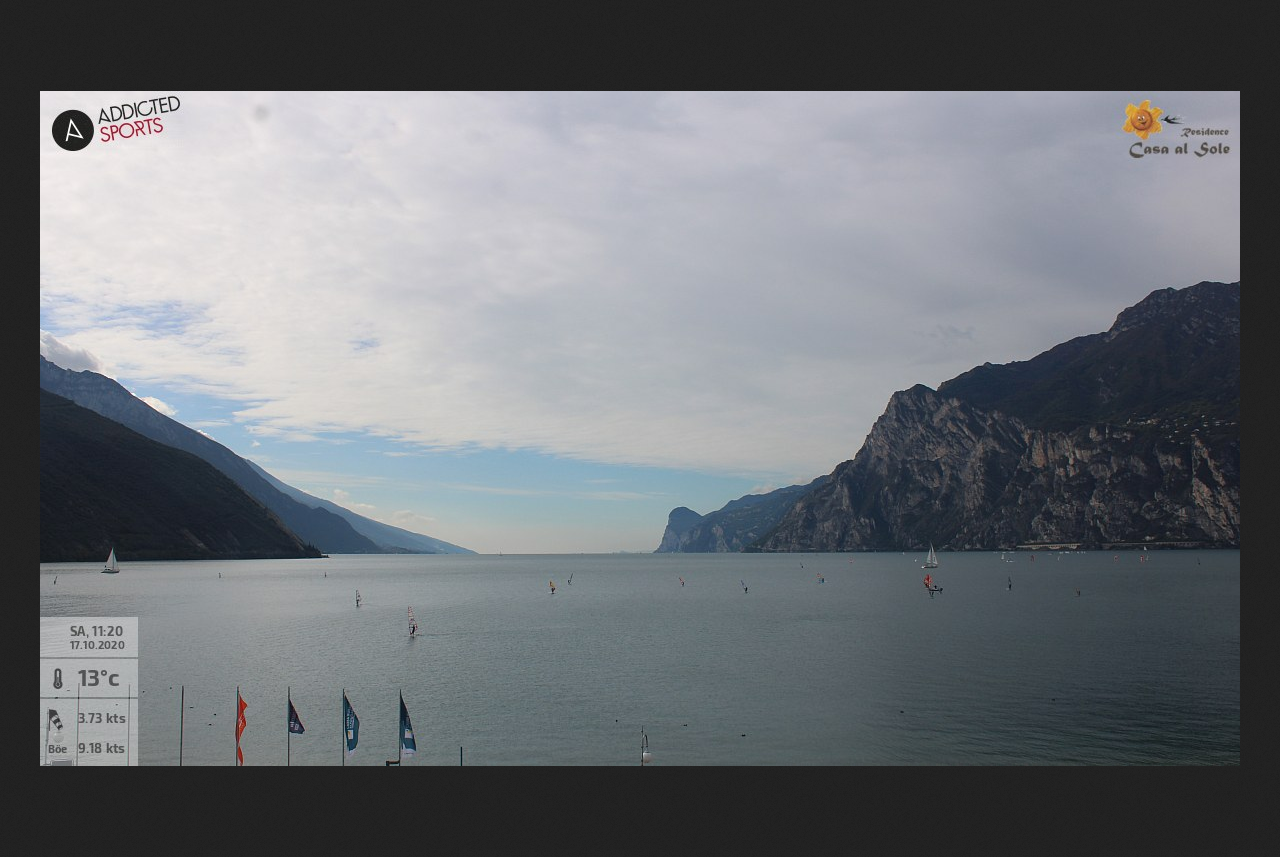maybe: (284, 701, 308, 739)
